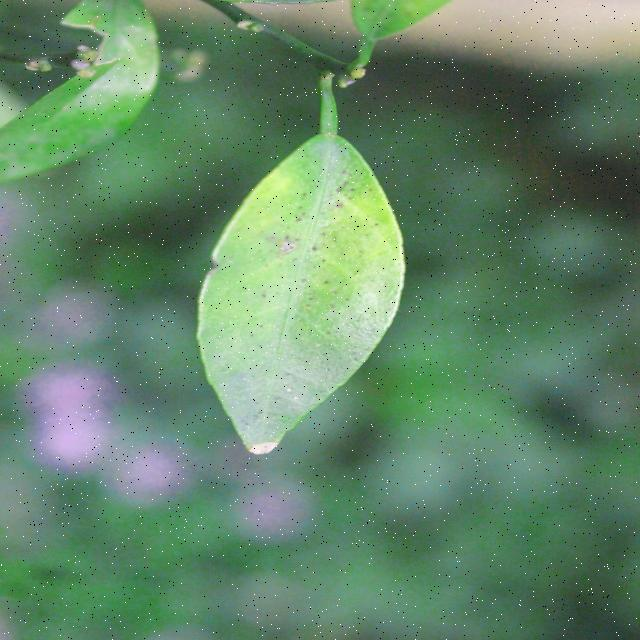blackspot: (188, 139, 429, 438)
